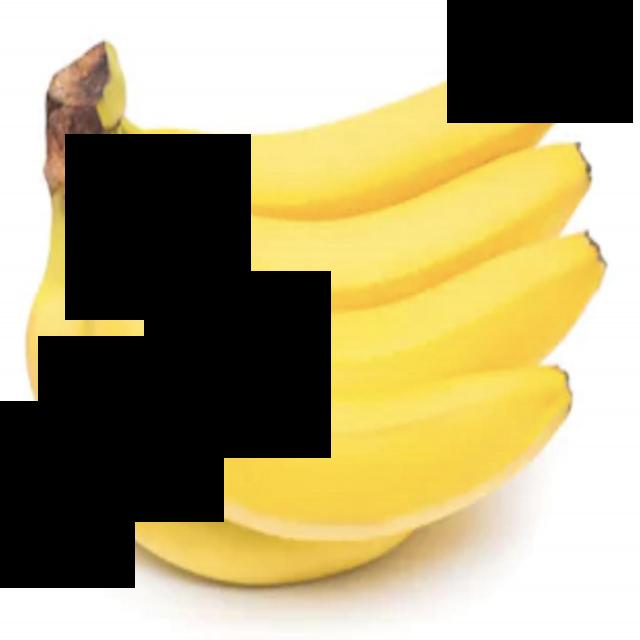banana: (78, 116, 581, 565)
